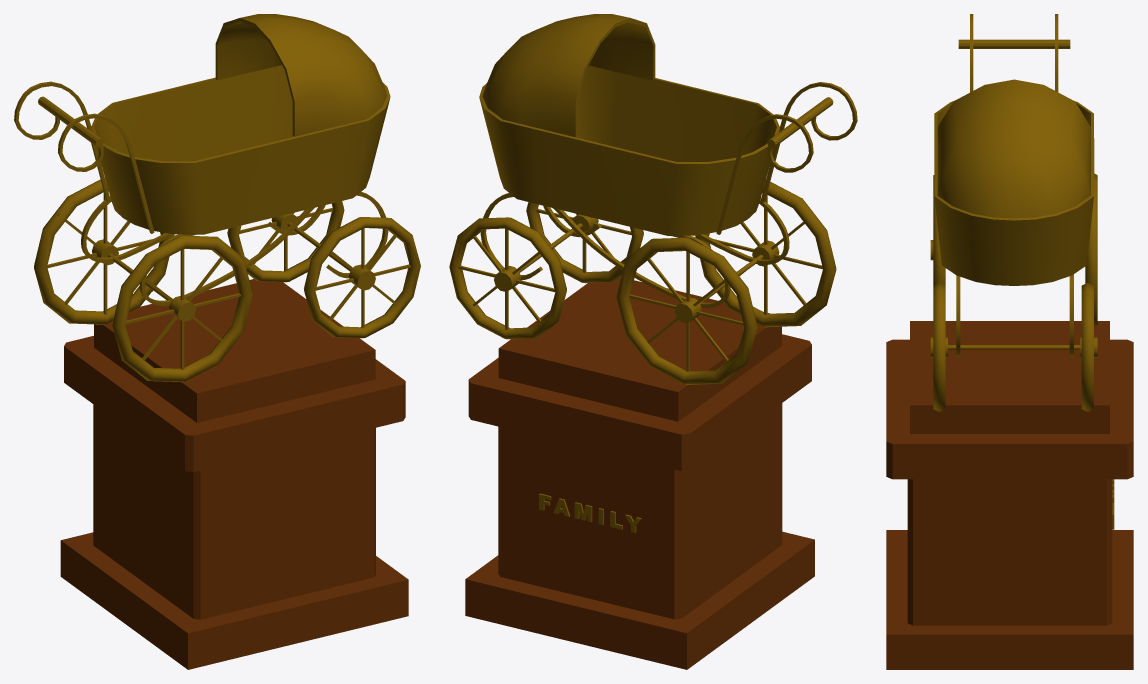
File: mesh_Weight_Family.fbx
The picture shows the model from 3 angles, left to right: view 1: azimuth 30°, elevation 25°; view 2: azimuth 150°, elevation 25°; view 3: azimuth 270°, elevation 25°; orthographic projection. The views are drawn at different scales.
Parts seen in each view (by area): view 1: model_Weight_Family; view 2: model_Weight_Family; view 3: model_Weight_Family.
Part boxes in pixels (x1,y1,x2,y2): model_Weight_Family: (14, 14, 420, 669); model_Weight_Family: (449, 14, 857, 669); model_Weight_Family: (886, 14, 1133, 669).
Bounding box in the file's own units: 5.9 × 9.24 × 3.77.
